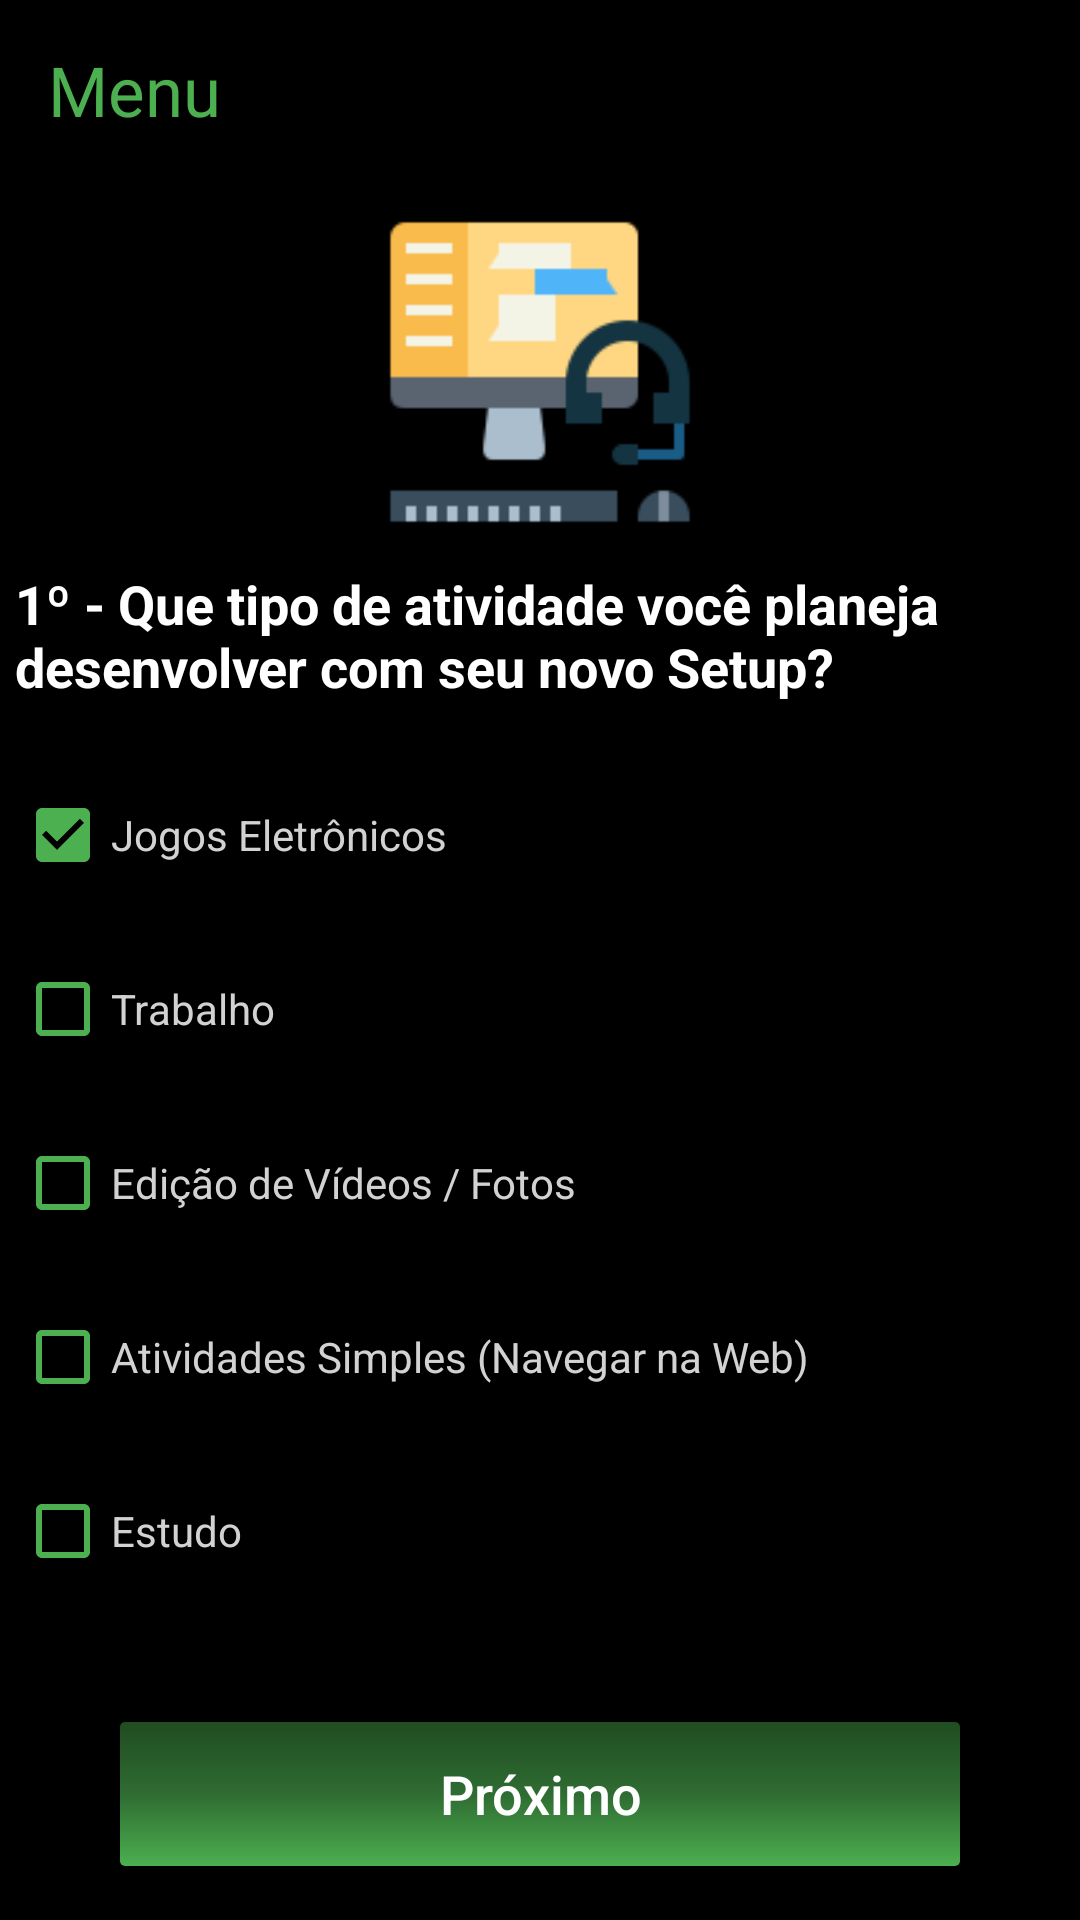

Named icons in this screenshot (1080w x 1920h) and their centers, (x=x, y=y):
computador: (x=539, y=372)
